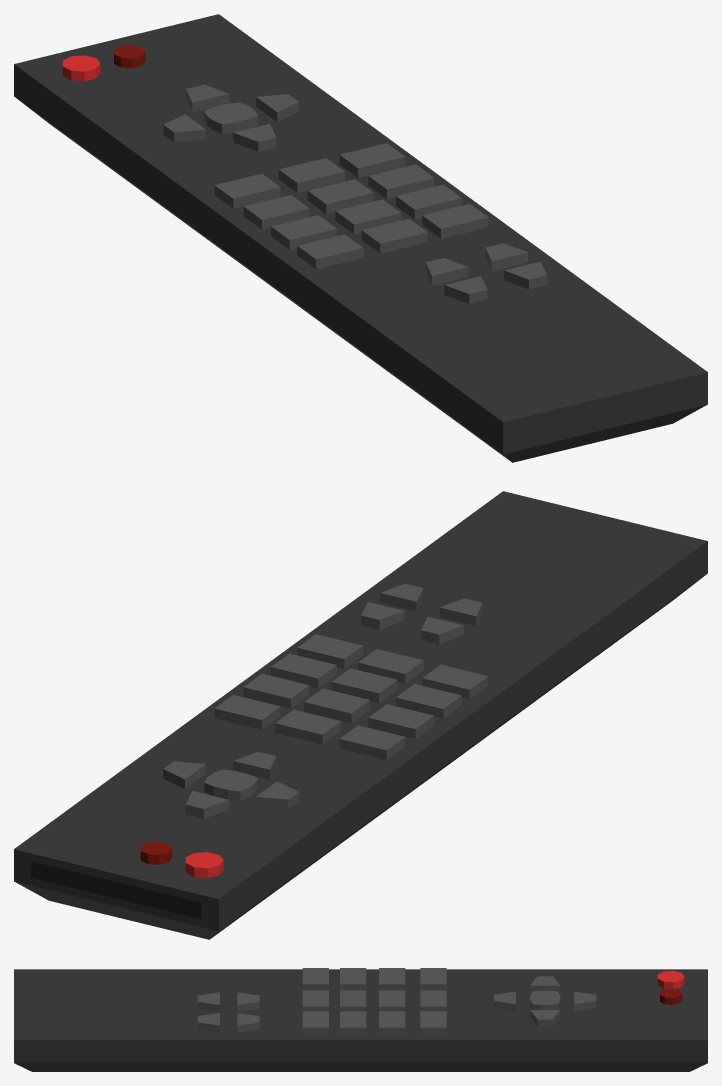
File: tv_remote.glb
The picture shows the model from 3 angles, top to bottom: view 1: azimuth 30°, elevation 25°; view 2: azimuth 150°, elevation 25°; view 3: azimuth 270°, elevation 25°; orthographic projection. The views are drawn at different scales.
Visible parts, largest first — view 1: Controller (TV); view 2: Controller (TV); view 3: Controller (TV).
Part boxes in pixels (box(x1,y1,x2,y2)): Controller (TV): box(14, 14, 707, 462); Controller (TV): box(14, 491, 707, 939); Controller (TV): box(14, 968, 707, 1071).
Bounding box in the file's own units: 0.0916 × 0.0279 × 0.3789.
Materials: 1 (1 with a texture image).
